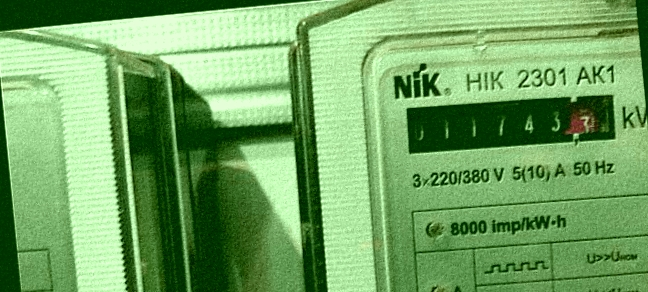0: (410, 115, 427, 143)
1: (437, 112, 453, 141), (465, 110, 480, 139)
3: (546, 106, 562, 135), (576, 113, 593, 136)
4: (520, 110, 536, 136)
7: (492, 111, 508, 137)
screen: (396, 81, 627, 167)
